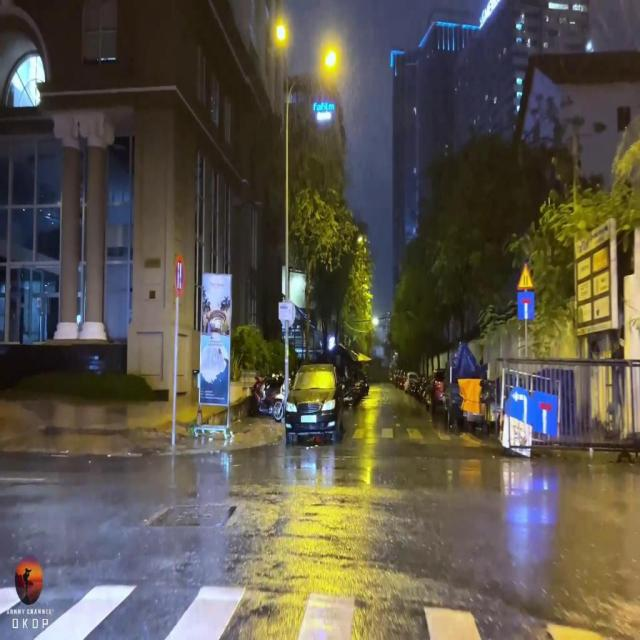cam_do_xe: (173, 252, 187, 298)
khac: (506, 387, 557, 437), (516, 263, 537, 292), (518, 292, 534, 320)
